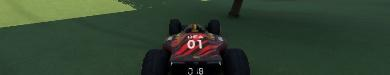Car: (140, 18, 250, 74)
grass: (0, 0, 389, 74)
